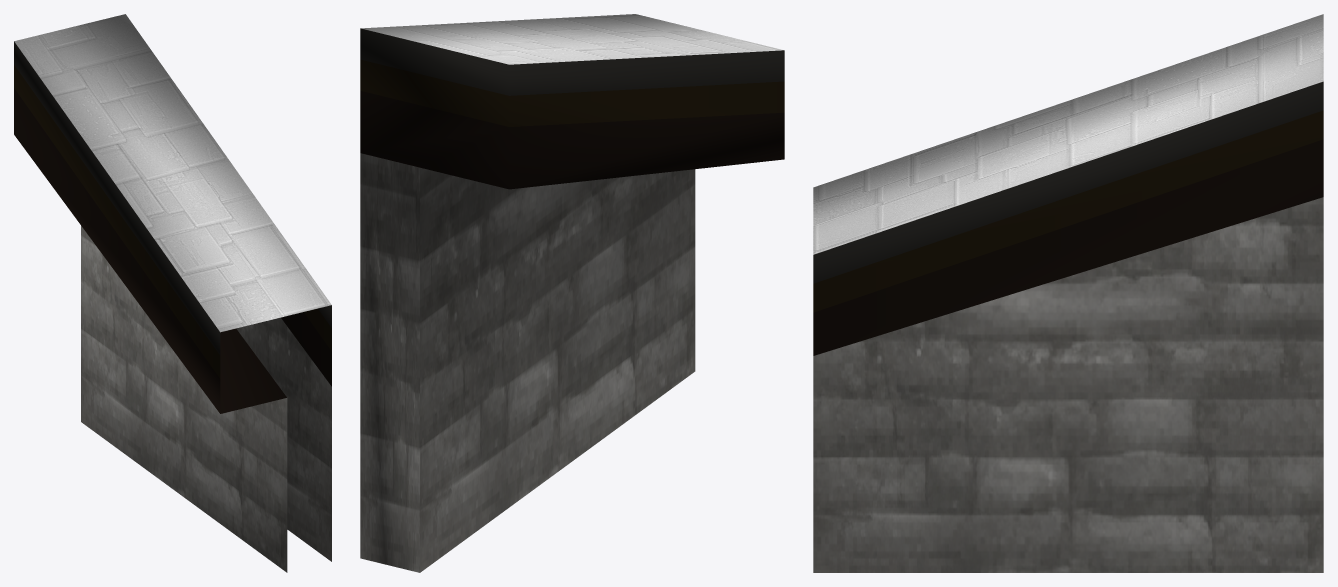
3 renders of one model, left to right at view 1: azimuth 30°, elevation 25°; view 2: azimuth 150°, elevation 25°; view 3: azimuth 270°, elevation 25°, orthographic. The views are drawn at different scales.
Parts seen in each view (by area): view 1: 5476; view 2: 5476; view 3: 5476.
Part boxes in pixels (x1,y1,x2,y2): 5476: (14,14,331,572); 5476: (360,14,784,572); 5476: (813,14,1323,572).
Size of the model in its own units: 0.4 by 1.36 by 1.28.
3 materials, 2 textured.
